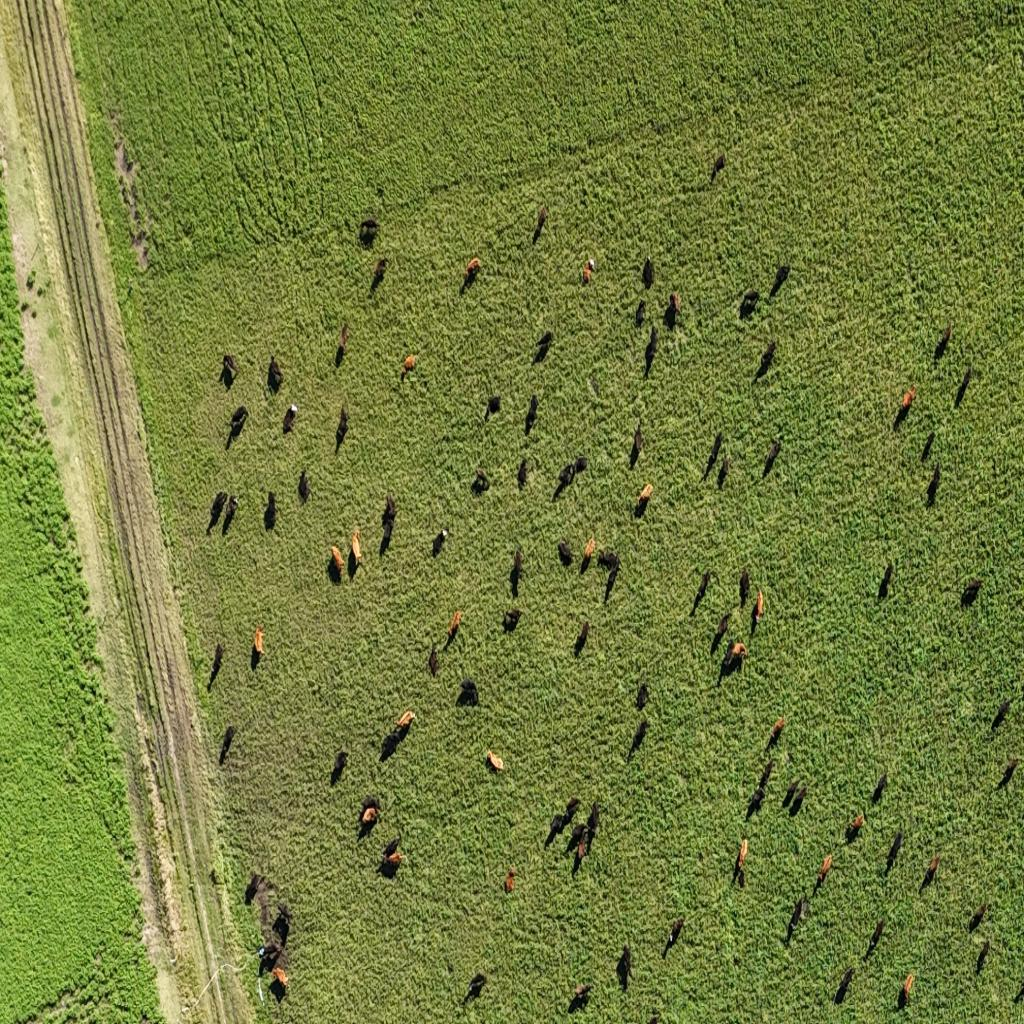cow: (894, 384, 917, 427), (602, 550, 621, 601), (787, 895, 807, 940), (664, 917, 684, 960), (271, 904, 291, 946), (866, 914, 885, 958), (208, 492, 228, 532), (227, 406, 248, 444), (705, 432, 723, 476), (570, 982, 596, 1012), (886, 829, 904, 871), (555, 462, 576, 497), (616, 943, 633, 986), (764, 440, 782, 480), (997, 758, 1019, 790), (968, 900, 989, 933), (209, 642, 224, 688), (935, 322, 953, 360), (566, 823, 588, 854), (991, 698, 1011, 732), (268, 965, 288, 999), (693, 570, 710, 610), (834, 966, 854, 1000), (955, 366, 971, 408), (734, 837, 748, 884), (586, 800, 602, 841), (336, 405, 350, 451), (533, 330, 553, 362), (926, 462, 942, 502), (222, 494, 238, 534), (746, 787, 766, 819), (714, 612, 730, 652), (466, 972, 488, 1001), (456, 678, 478, 707), (560, 797, 581, 827), (379, 730, 399, 761), (351, 528, 365, 572), (258, 944, 276, 978), (245, 872, 264, 904), (846, 811, 866, 841), (220, 352, 240, 382), (962, 578, 982, 608), (545, 815, 565, 845), (645, 326, 658, 372), (359, 217, 379, 246), (268, 355, 284, 391), (432, 526, 450, 558), (772, 264, 790, 296), (632, 718, 648, 754), (878, 562, 893, 600), (381, 518, 396, 556), (370, 257, 386, 292), (264, 490, 278, 530), (740, 289, 760, 317), (630, 426, 644, 466), (664, 293, 680, 328), (752, 587, 765, 629), (760, 340, 776, 374), (975, 940, 991, 974), (872, 770, 888, 804), (760, 758, 776, 792), (899, 972, 914, 1008), (580, 537, 595, 573), (789, 784, 807, 814), (782, 777, 799, 807), (636, 483, 653, 513), (525, 395, 538, 434), (333, 750, 349, 781), (220, 725, 236, 756), (770, 715, 786, 746), (464, 256, 482, 283), (576, 254, 592, 284), (330, 544, 344, 578), (921, 430, 935, 464), (504, 606, 522, 632), (926, 855, 942, 884), (535, 204, 549, 237), (739, 566, 750, 608), (558, 539, 574, 567), (381, 503, 397, 531), (717, 453, 730, 487), (382, 837, 401, 860), (576, 619, 590, 650), (252, 626, 264, 662), (283, 404, 297, 434), (298, 468, 310, 503), (636, 681, 650, 711), (818, 853, 832, 883), (382, 850, 402, 871), (396, 710, 415, 732), (585, 824, 598, 856), (486, 749, 504, 772), (510, 557, 520, 598), (642, 257, 654, 290), (710, 153, 724, 181), (512, 546, 524, 578), (586, 374, 600, 401), (474, 467, 489, 492), (428, 646, 440, 677), (487, 394, 501, 420), (449, 609, 461, 637), (574, 453, 588, 476), (517, 457, 527, 489), (362, 806, 378, 825), (636, 299, 646, 328), (339, 322, 349, 351), (732, 641, 748, 659), (403, 353, 417, 373), (505, 865, 515, 893), (335, 341, 346, 366), (1017, 973, 1024, 1004), (209, 868, 219, 886), (647, 1012, 660, 1024), (1020, 678, 1024, 702)
